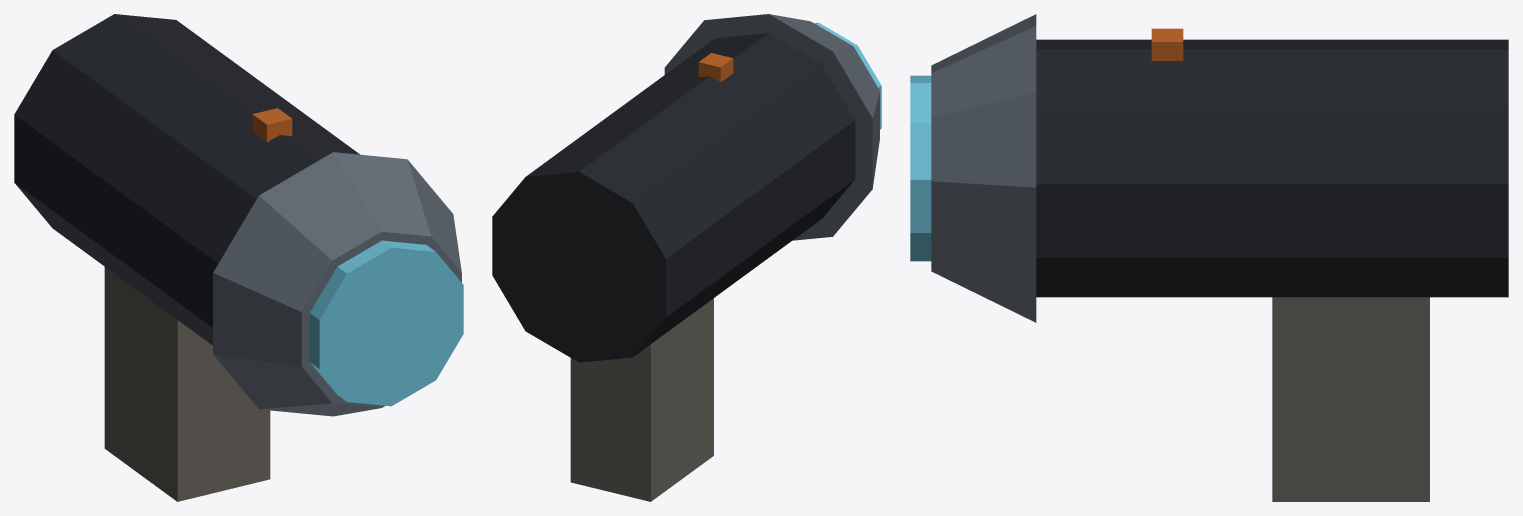
File: holorecorder.glb
3 views of the same model, side by side, from view 1: azimuth 30°, elevation 25°; view 2: azimuth 150°, elevation 25°; view 3: azimuth 270°, elevation 25° (orthographic). The views are drawn at different scales.
Visible parts, largest first — view 1: m; view 2: m; view 3: m.
Boxes of the visible parts, <box> form: m: <box>14,14,463,501</box>; m: <box>492,14,881,501</box>; m: <box>910,14,1508,501</box>.
Bounding box in the file's own units: 0.0651 × 0.1083 × 0.13.
